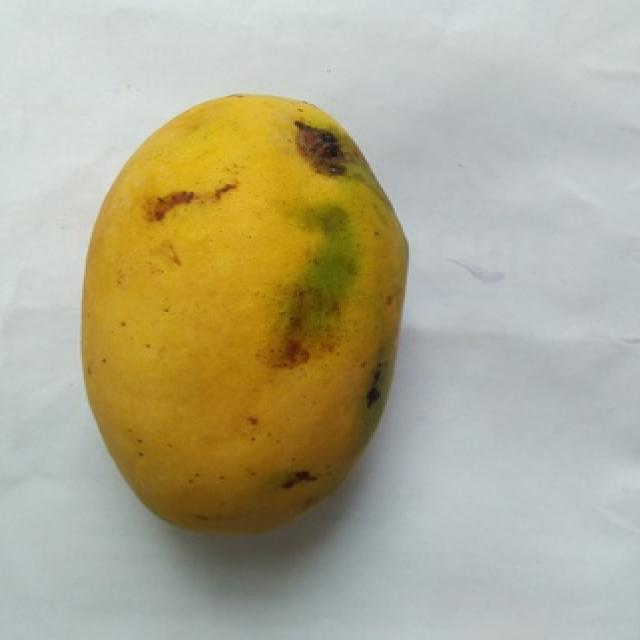Mango: (84, 94, 407, 531)
